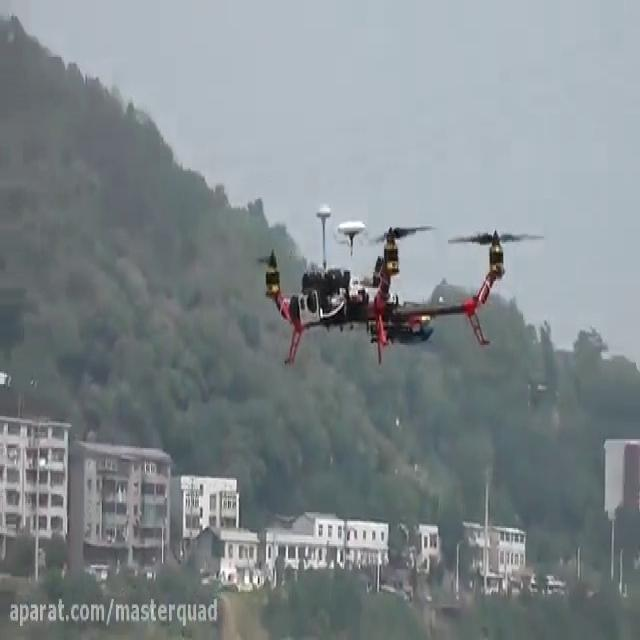drone: (250, 197, 547, 370)
